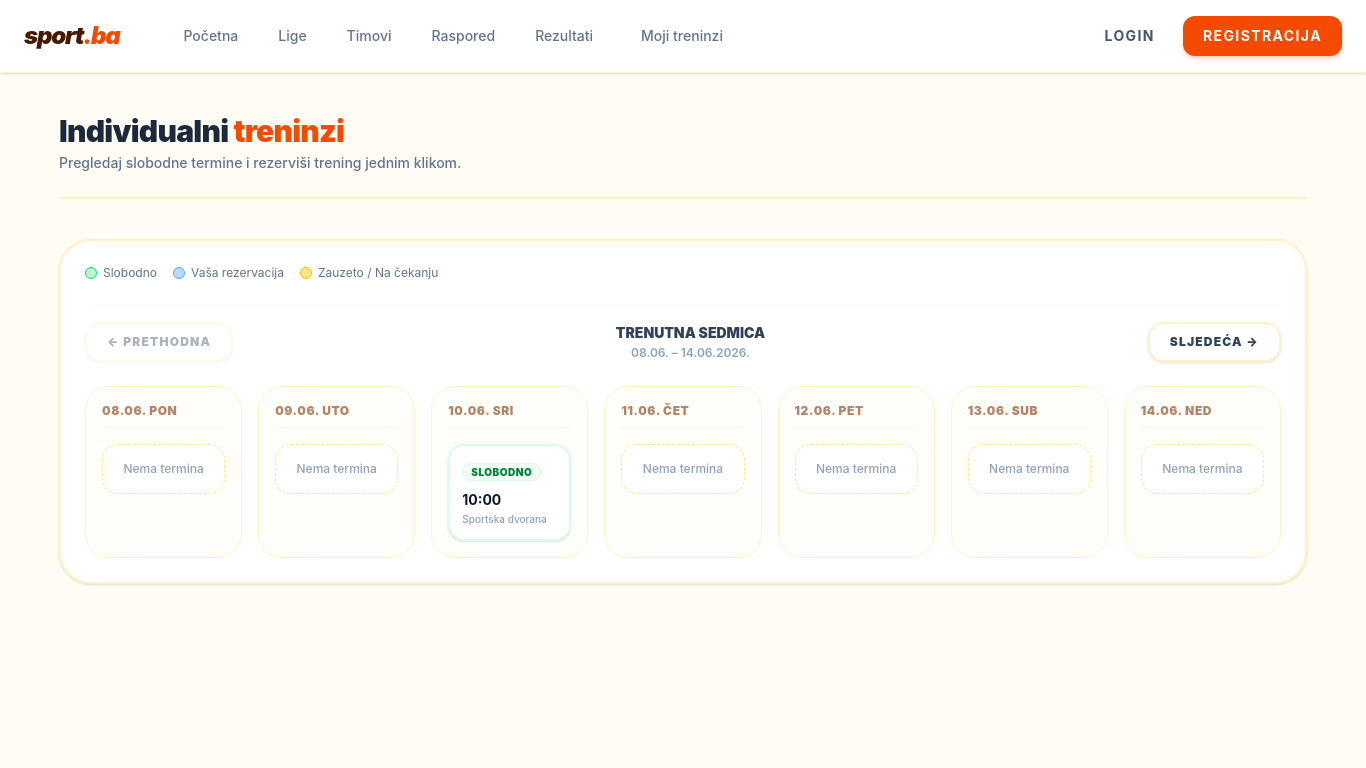
Scenario: IndividualTraining page › potvrđuje rezervaciju i prikazuje uspjeh
expect the text "Sportska dvorana" is shown: met, box [462, 512, 557, 527]
Click the button "Slobodno 10:00 Sportska dvorana" at (510, 492), box [448, 444, 571, 541]
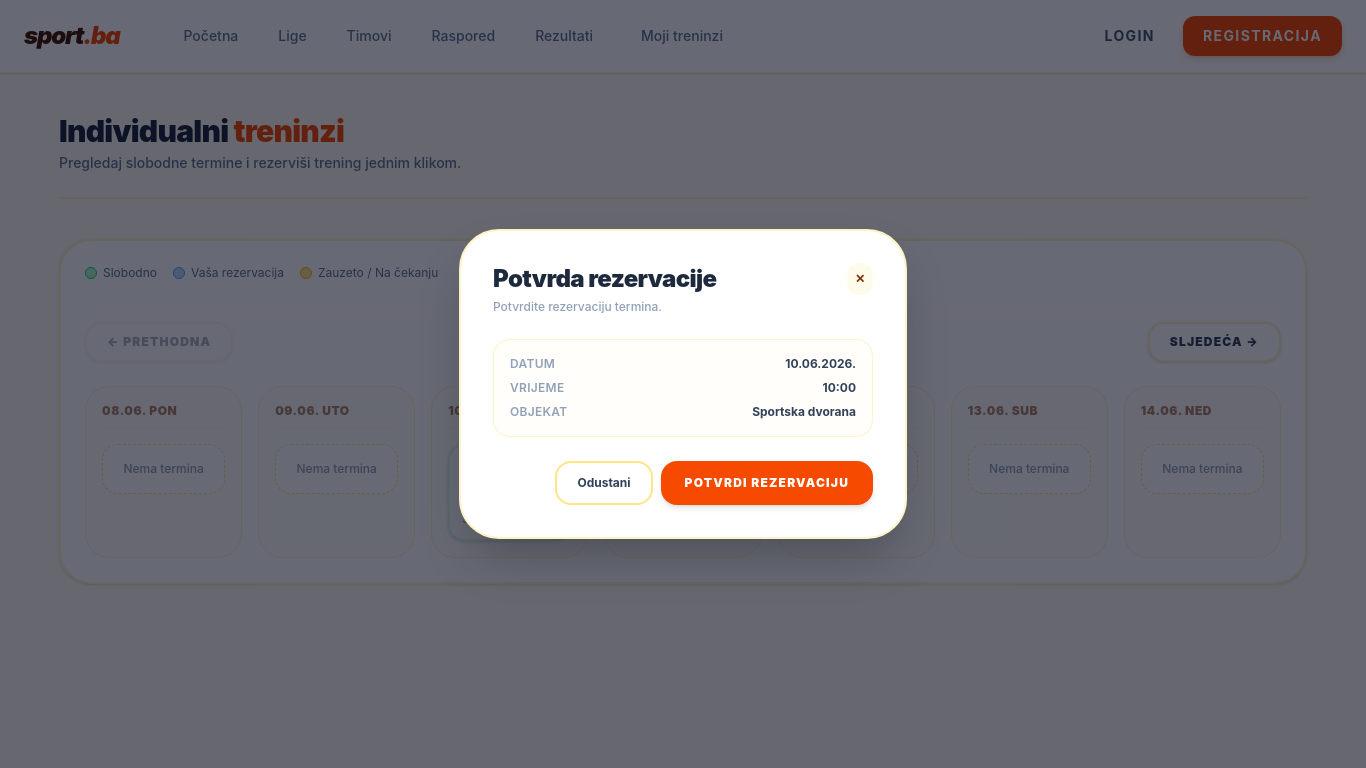
Click the button "Potvrdi rezervaciju" at (767, 483), box [661, 461, 873, 505]
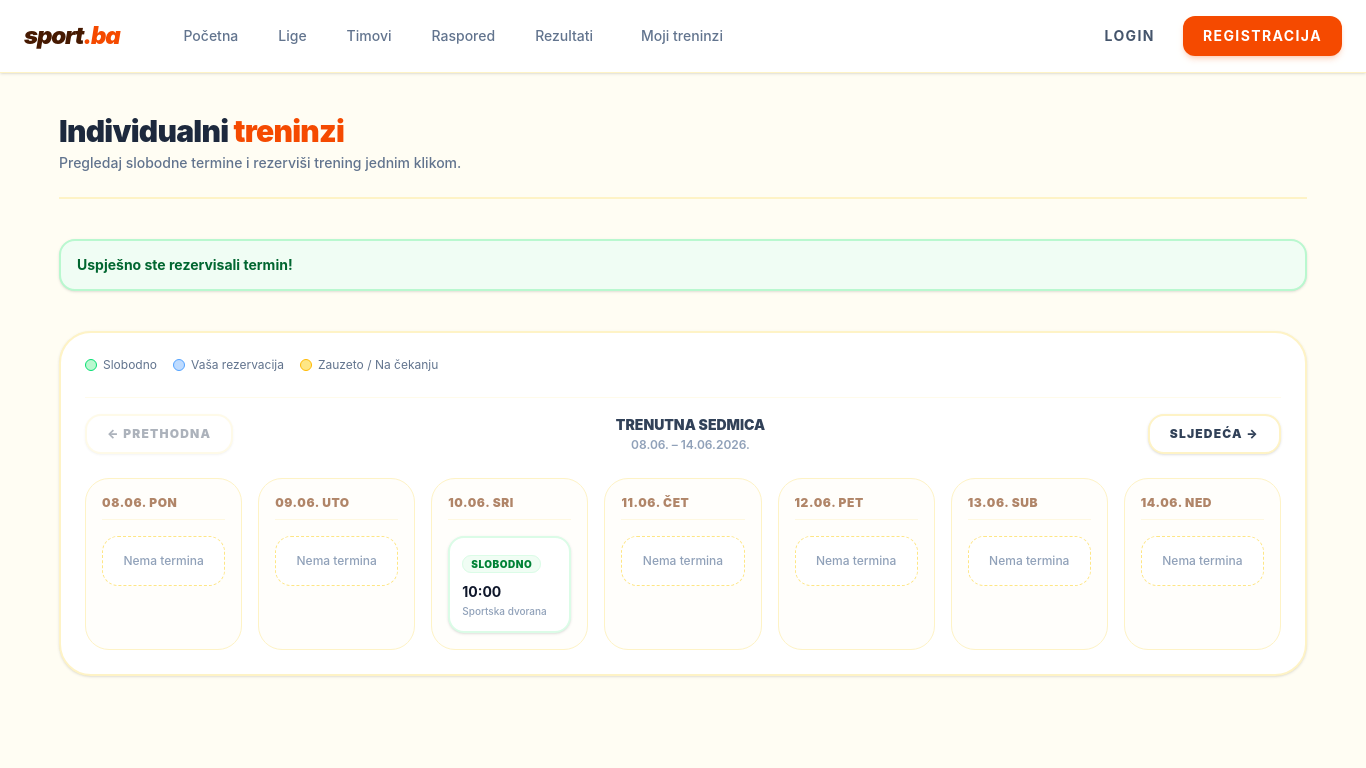
expect the text "Uspješno ste rezervisali termin!" is shown: met, box [59, 239, 1307, 291]
